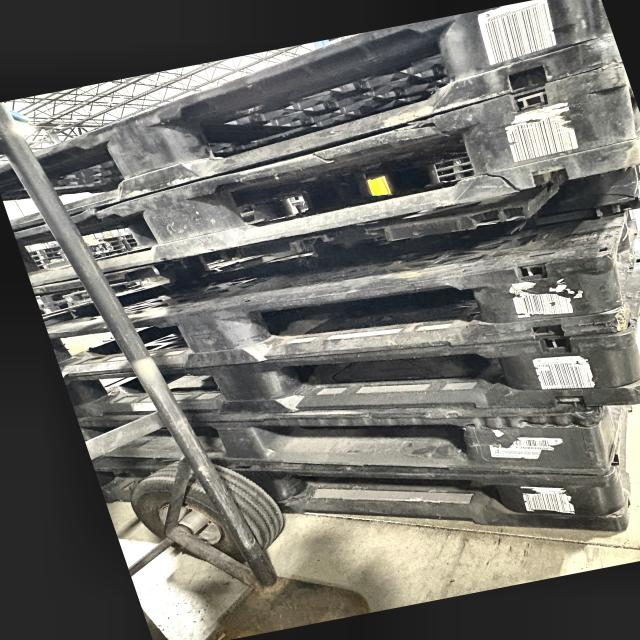igps: (0, 45, 640, 293), (0, 0, 639, 239), (38, 219, 640, 381), (50, 314, 640, 426), (67, 402, 640, 484), (82, 461, 640, 538)
